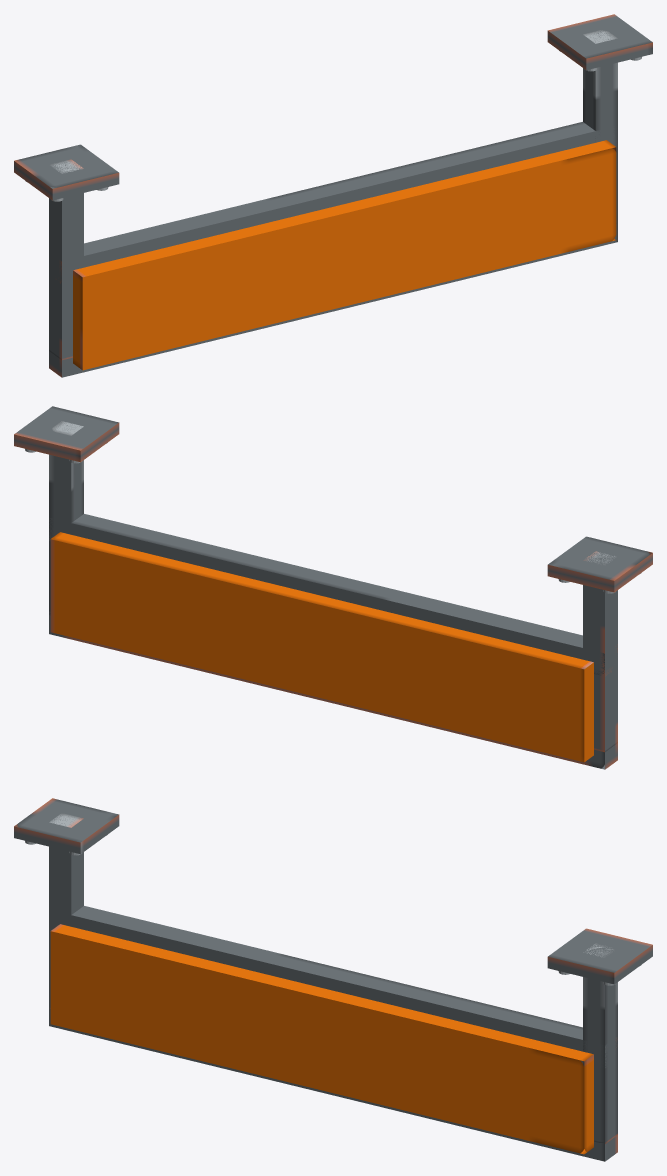
Rendered from nl_station_sign_hanging_ovg.obj.
3 views of the same model, one above another, from view 1: azimuth 30°, elevation 25°; view 2: azimuth 150°, elevation 25°; view 3: azimuth 330°, elevation 25° (orthographic).
Parts seen in each view (by area): view 1: sign_back, pole_top, pole_right, foot_right, foot_left, pole_left; view 2: sign_front, pole_top, pole_right, foot_right, foot_left, pole_left; view 3: sign_back, pole_top, pole_left, foot_left, foot_right, pole_right.
Boxes of the visible parts, <box> form: sign_back: <box>73,140,616,370</box>; pole_top: <box>49,122,617,377</box>; pole_right: <box>49,159,83,360</box>; foot_right: <box>14,144,119,200</box>; foot_left: <box>547,14,652,70</box>; pole_left: <box>583,30,617,223</box>; sign_front: <box>50,532,593,762</box>; pole_top: <box>49,514,617,769</box>; pole_right: <box>583,551,617,752</box>; foot_right: <box>547,536,652,592</box>; foot_left: <box>14,406,119,462</box>; pole_left: <box>49,421,83,615</box>; sign_back: <box>50,924,593,1154</box>; pole_top: <box>49,906,617,1161</box>; pole_left: <box>583,943,617,1143</box>; foot_left: <box>547,928,652,984</box>; foot_right: <box>14,798,119,854</box>; pole_right: <box>49,813,83,1008</box>.
Size of the model in its own units: 3.38 by 1.09 by 0.375.
1 material, 1 textured.
